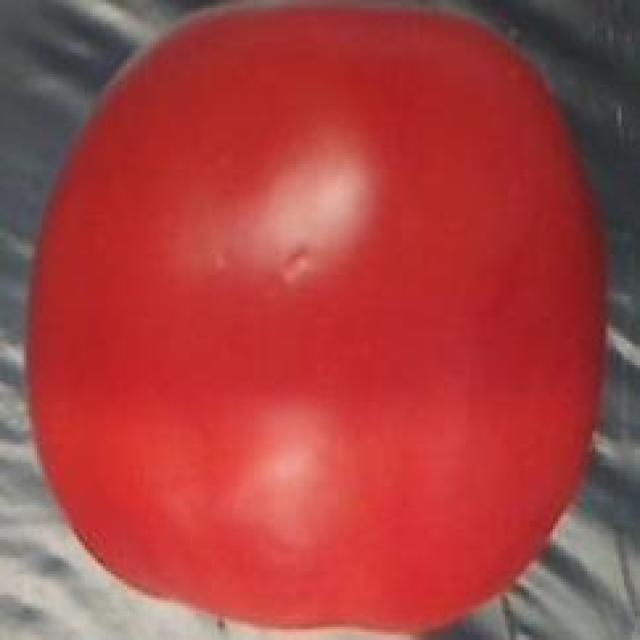ripe tomato: (19, 0, 624, 640)
